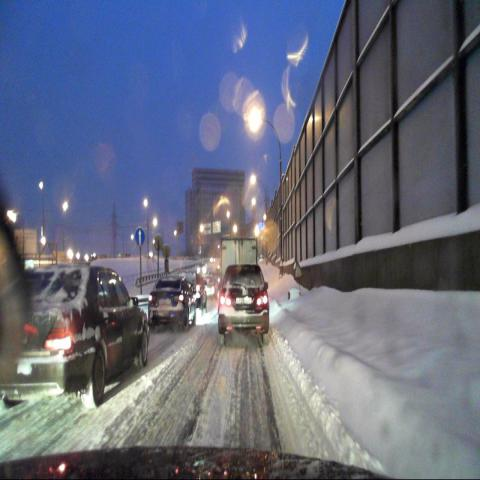4_1_1: (134, 225, 146, 247)
